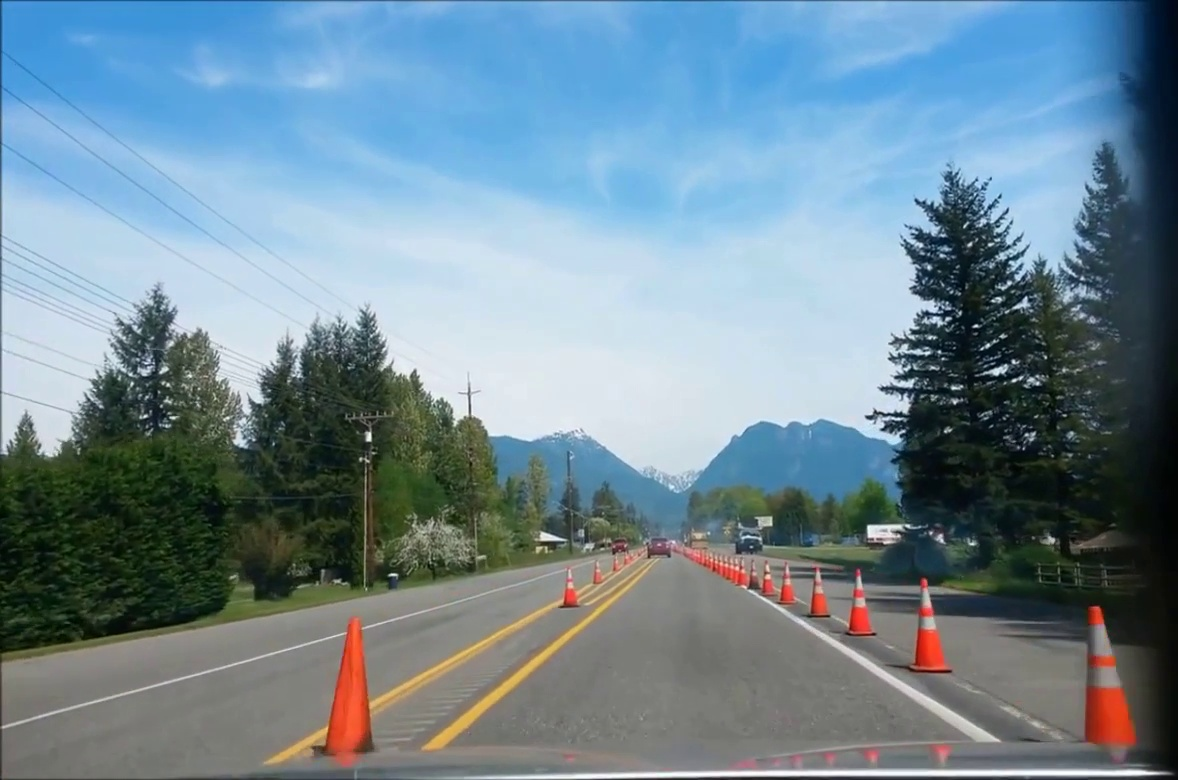Cone: (324, 616, 383, 757), (1084, 605, 1139, 740), (909, 577, 951, 671), (846, 568, 874, 639), (806, 563, 831, 620), (559, 564, 579, 609), (779, 562, 796, 605)
